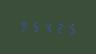five: (66, 20, 77, 35), (30, 19, 41, 33)
four: (42, 19, 53, 34)
nine: (18, 18, 29, 33)
two: (54, 20, 65, 34)
